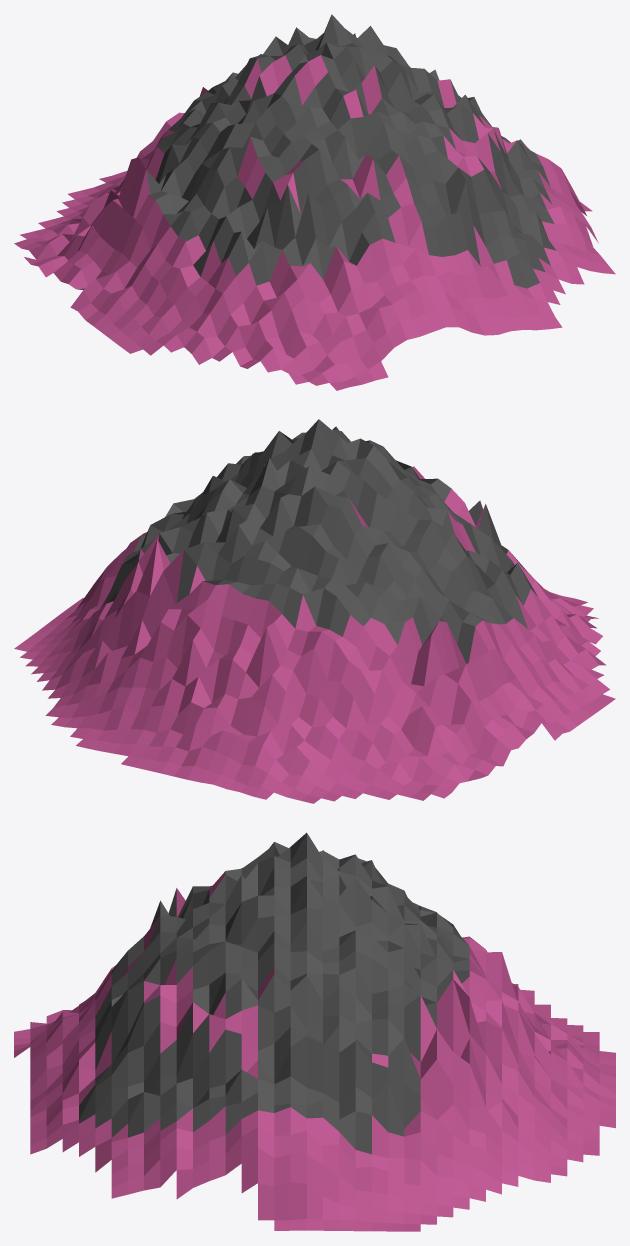
The model's file is Montagne Tuyau.fbx.
3 views of the same model, one above another, from view 1: azimuth 30°, elevation 25°; view 2: azimuth 150°, elevation 25°; view 3: azimuth 270°, elevation 25° (orthographic). The views are drawn at different scales.
Parts seen in each view (by area): view 1: Plane; view 2: Plane; view 3: Plane.
Boxes of the visible parts, bbox=[...] form: Plane: bbox=[14, 14, 615, 390]; Plane: bbox=[14, 419, 615, 803]; Plane: bbox=[14, 832, 615, 1231].
Bounding box in the file's own units: 5429 × 2600 × 5286.
